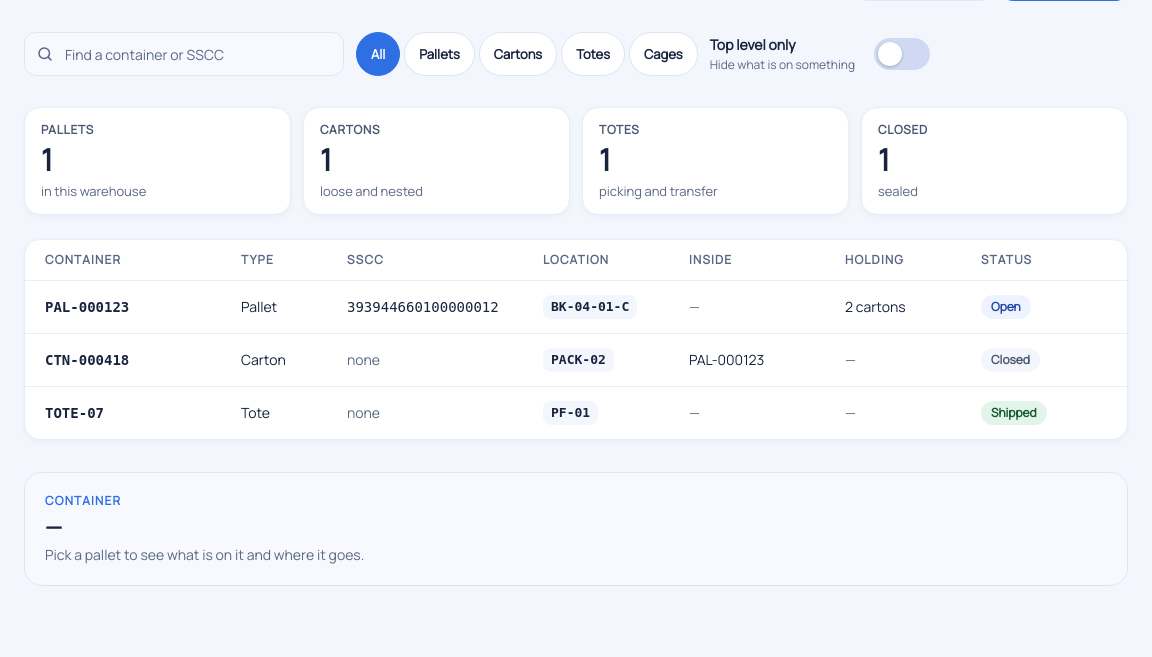
Test: Containers › says nothing is on an empty carton and offers it an SSCC
Click the text "CTN-000418" at (87, 360), box [45,352,129,368]
(page scrolled)
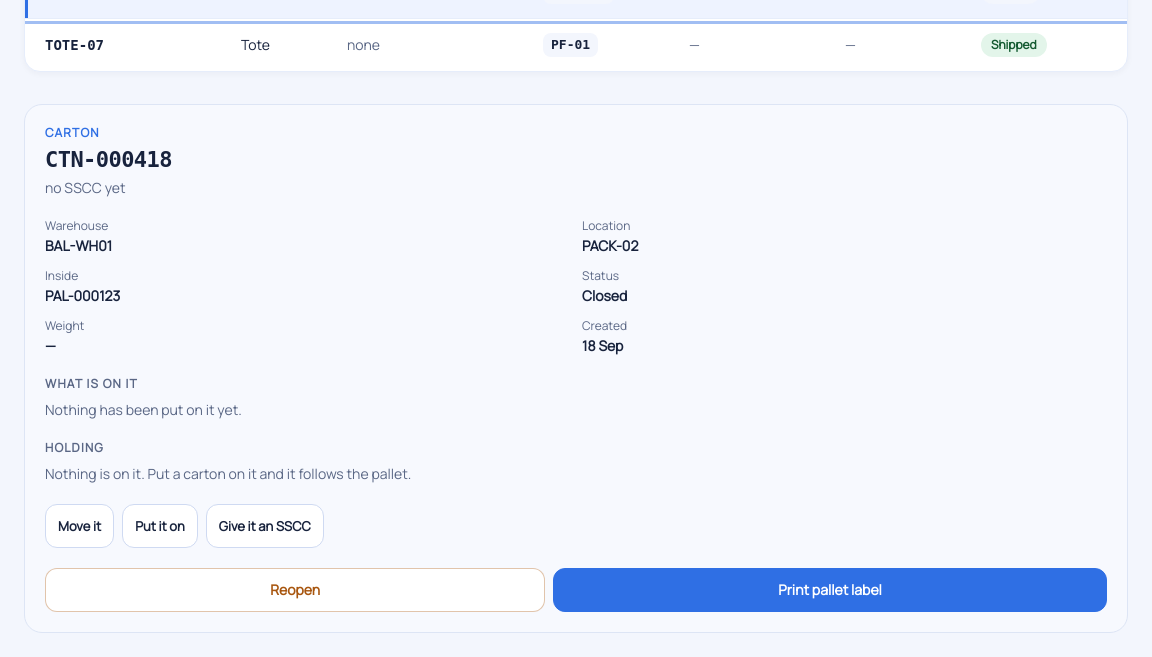
Now the text "no SSCC yet" is shown, box [45,178,126,197]
Now the text "Nothing has been put on it yet." is shown, box [45,400,242,419]
Now the button "Give it an SSCC" is shown, box [206,504,324,548]
